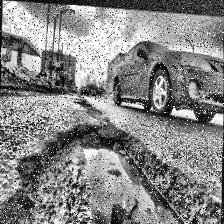pothole: (0, 110, 222, 224)
